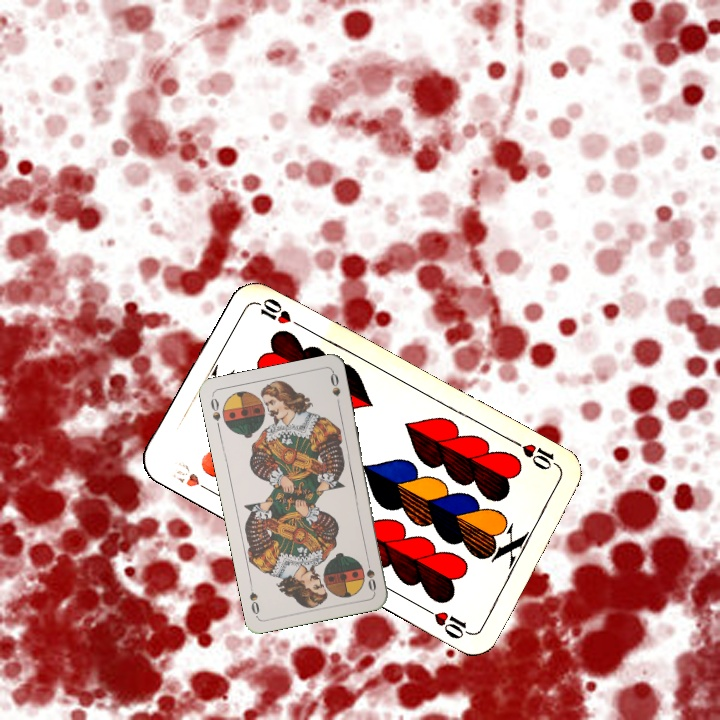H10: (509, 436, 563, 473), (169, 458, 217, 497)
SO: (362, 554, 379, 594), (206, 394, 223, 433)
